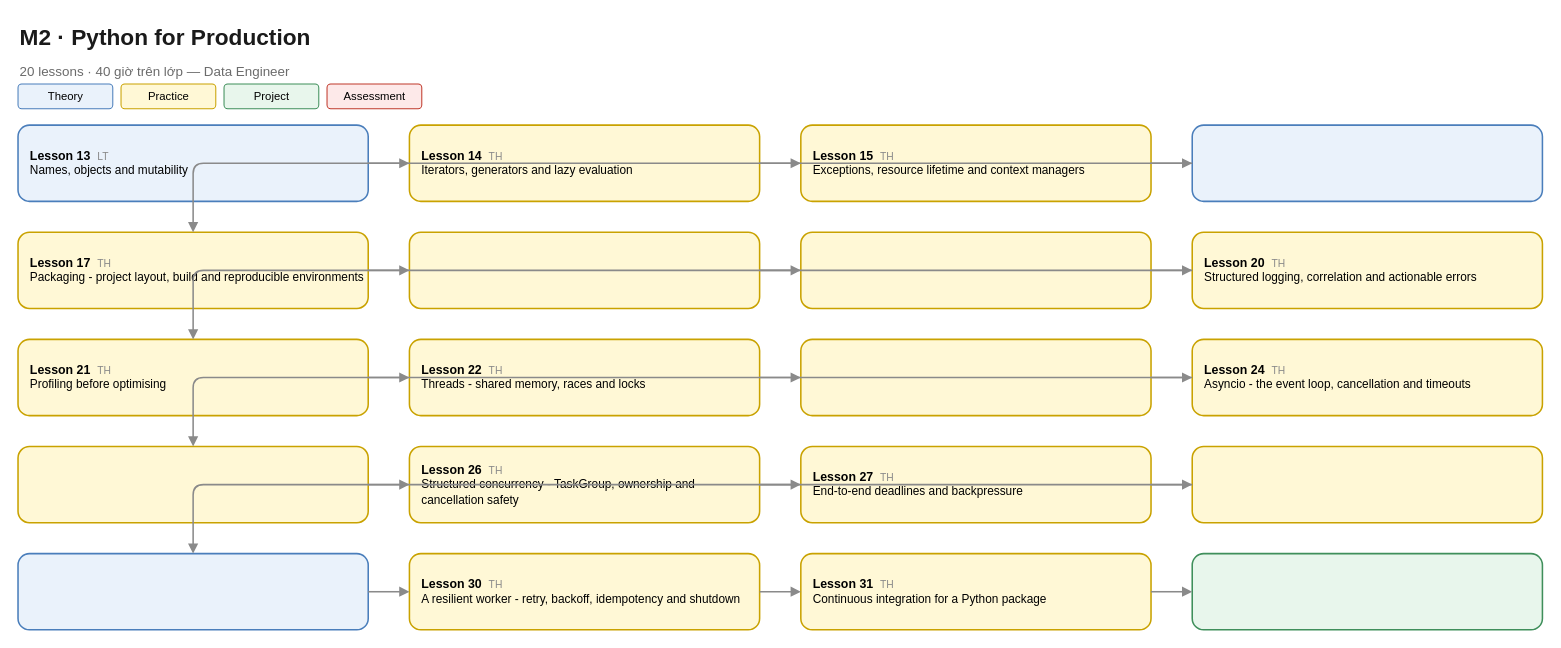
The diagram is 1561 pixels wide and 648 high, and some of its shapes have lost their labels. Each missing label, with the centre of its shape:
"Lesson 16 LT CPython internals that change your decisions" goes at [1367,163].
"Lesson 18 TH Type hints and validation at the boundary" goes at [584,270].
"Lesson 19 TH Testing - unit, integration, property and contract" goes at [975,270].
"Lesson 23 TH Processes - isolation, serialization and cost" goes at [975,377].
"Lesson 25 TH Coroutine, task and future - the state model" goes at [193,484].
"Lesson 28 TH Async failure injection - six failure modes" goes at [1367,484].
"Lesson 29 LT Choosing a concurrency model from the workload" goes at [193,591].
"Lesson 32 DA Python project - a packaged, tested, observable tool" goes at [1367,591].
